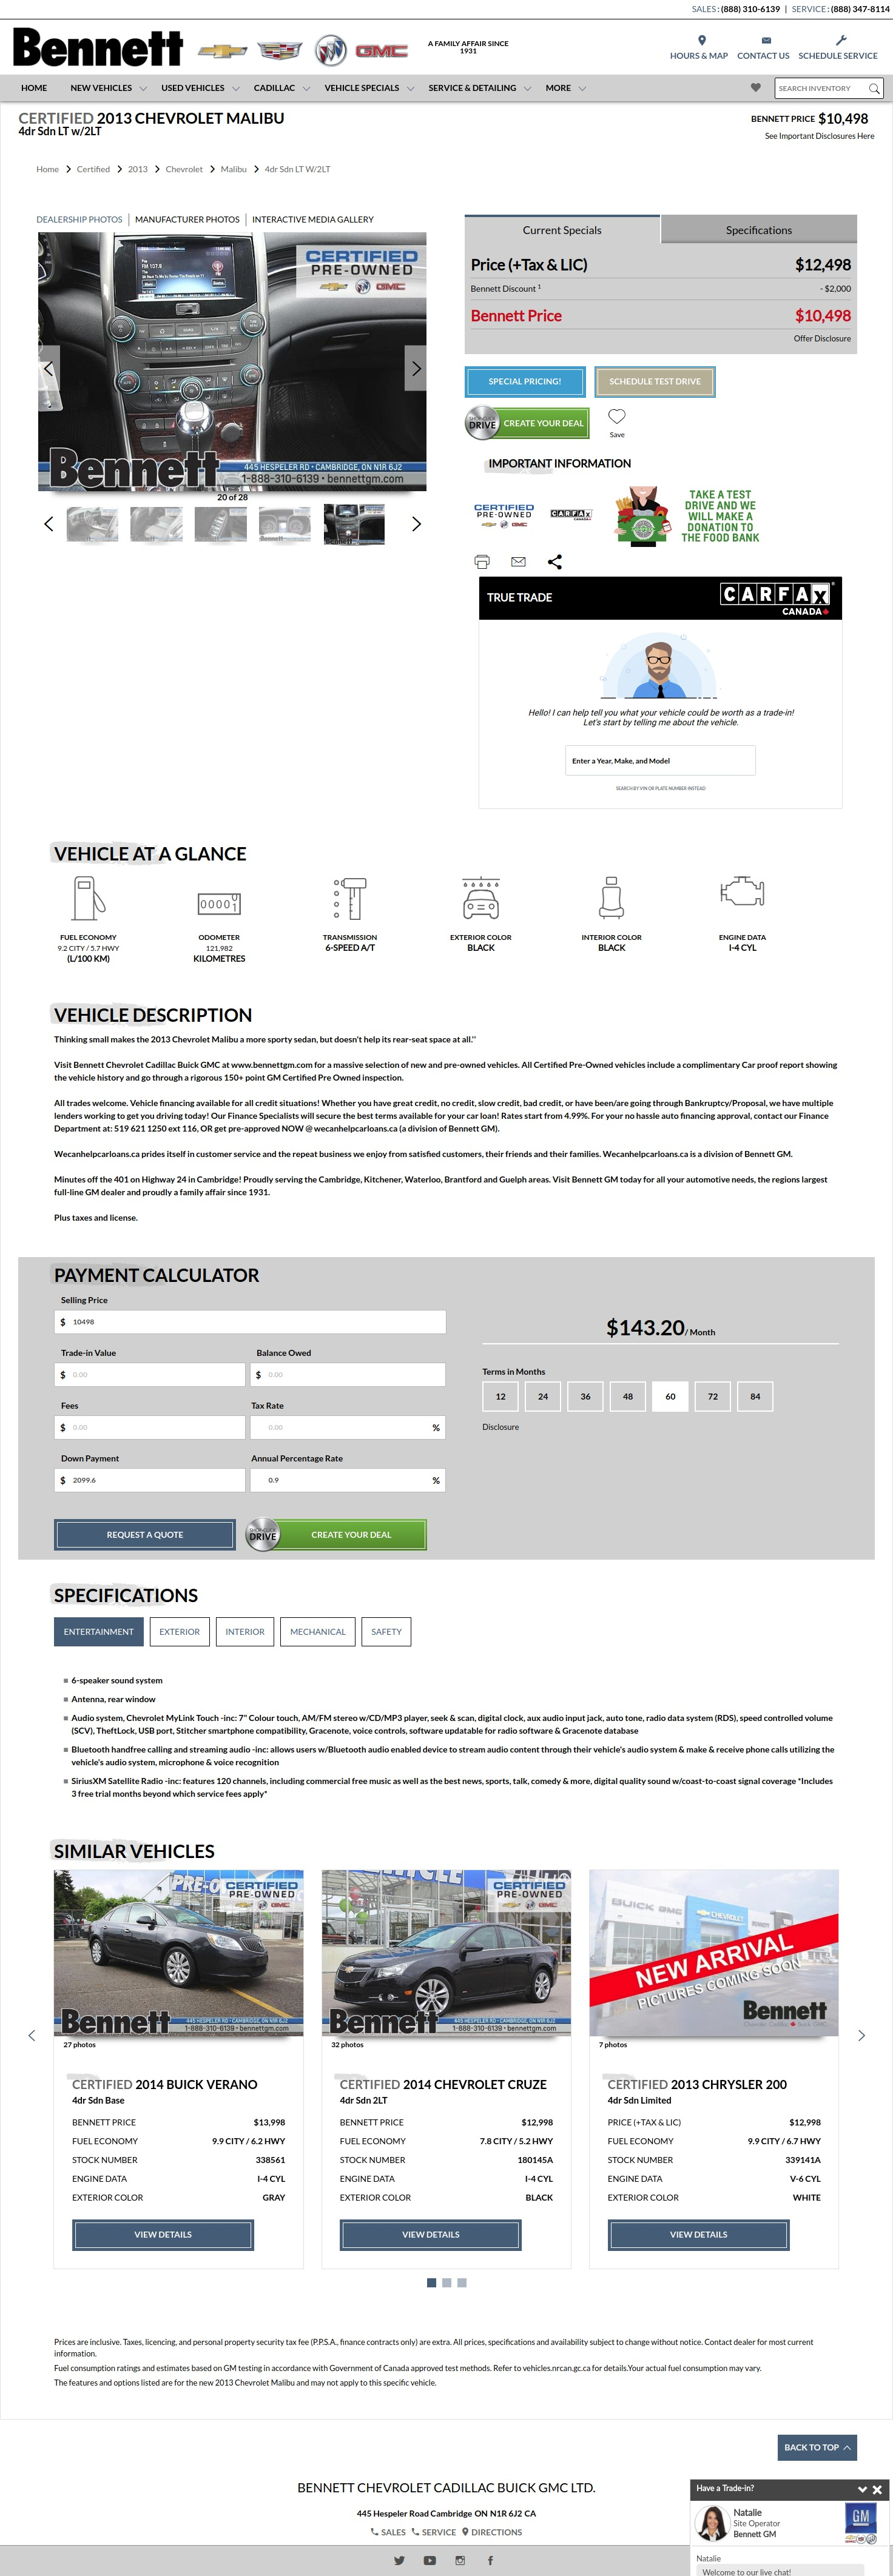car: (411, 516, 423, 534)
